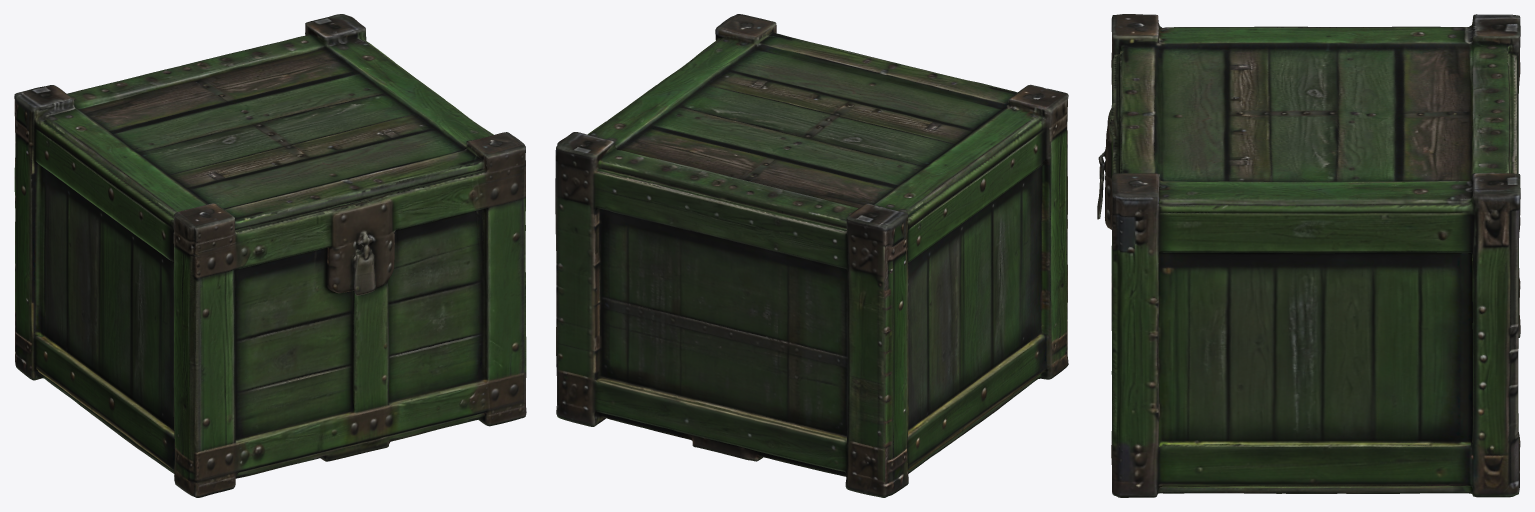
The model's file is a_large_green_woode_0613160418_.fbx.
3 renders of one model, left to right at view 1: azimuth 30°, elevation 25°; view 2: azimuth 150°, elevation 25°; view 3: azimuth 270°, elevation 25°, orthographic. The views are drawn at different scales.
Visible parts, largest first — view 1: file1; view 2: file1; view 3: file1.
Boxes of the visible parts, left/top/right/bottom form: file1: left=14, top=14, right=526, bottom=497; file1: left=555, top=14, right=1068, bottom=497; file1: left=1097, top=14, right=1520, bottom=497.
Bounding box in the file's own units: 105 × 81.18 × 103.
Materials: 1 (1 with a texture image).
